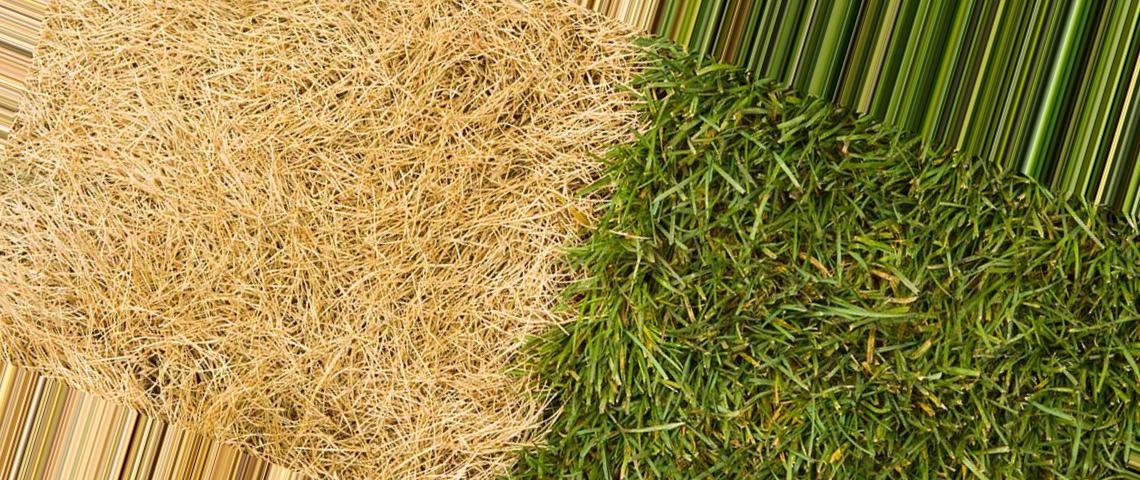patch: (78, 11, 439, 380), (467, 59, 580, 274)
